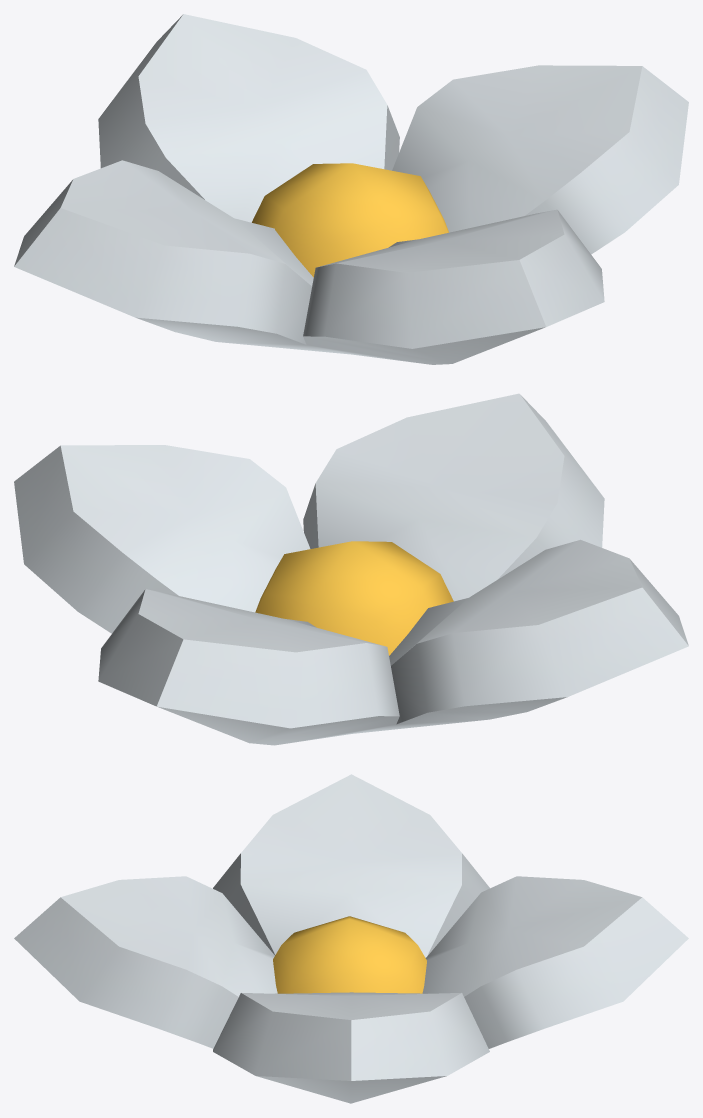
Rendered from Flower A.glb.
3 renders of one model, top to bottom at view 1: azimuth 30°, elevation 25°; view 2: azimuth 150°, elevation 25°; view 3: azimuth 270°, elevation 25°, orthographic. The views are drawn at different scales.
Parts seen in each view (by area): view 1: flower_A; view 2: flower_A; view 3: flower_A.
Boxes of the visible parts, x1,y1,x2,y2 form: flower_A: (14,14,688,364); flower_A: (14,393,688,745); flower_A: (14,774,688,1103).
Bounding box in the file's own units: 0.4491 × 0.1383 × 0.4491.
1 material, 1 textured.
